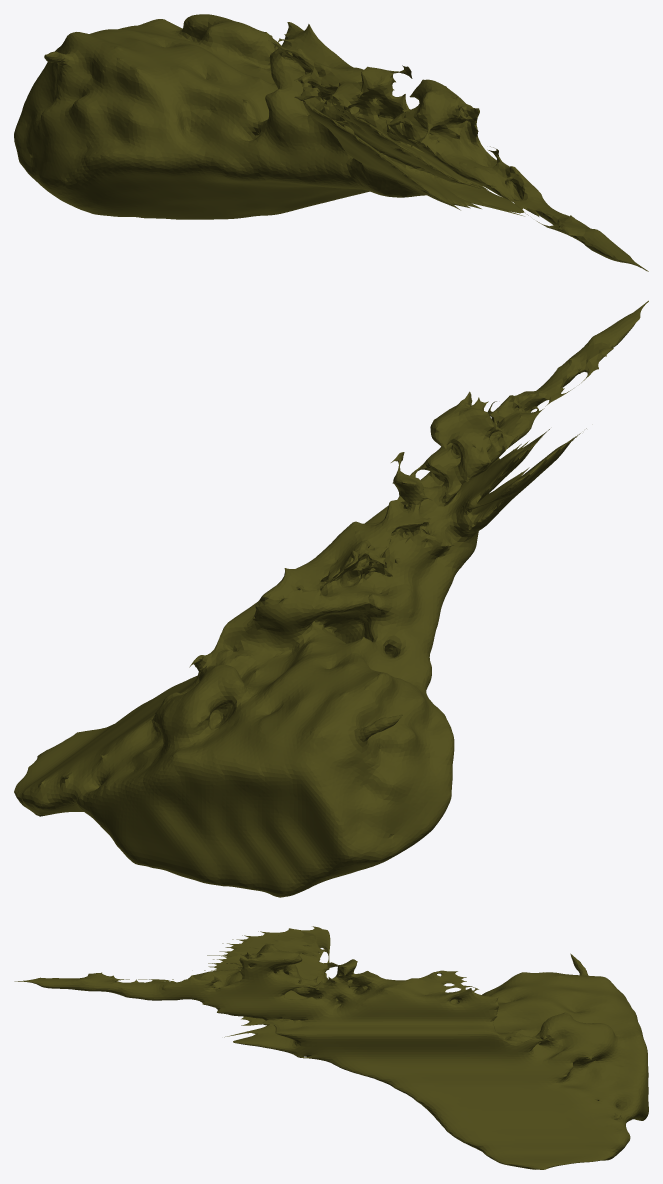
Rendered from Segmentation_Fragment_3.obj.
The picture shows the model from 3 angles, top to bottom: view 1: azimuth 30°, elevation 25°; view 2: azimuth 150°, elevation 25°; view 3: azimuth 270°, elevation 25°; orthographic projection. The views are drawn at different scales.
Visible parts, largest first — view 1: grp1; view 2: grp1; view 3: grp1.
Boxes of the visible parts, x1,y1,x2,y2 form: grp1: (14, 14, 648, 271); grp1: (14, 300, 648, 897); grp1: (14, 926, 648, 1169).
Size of the model in its own units: 34.43 by 22.58 by 73.92.
